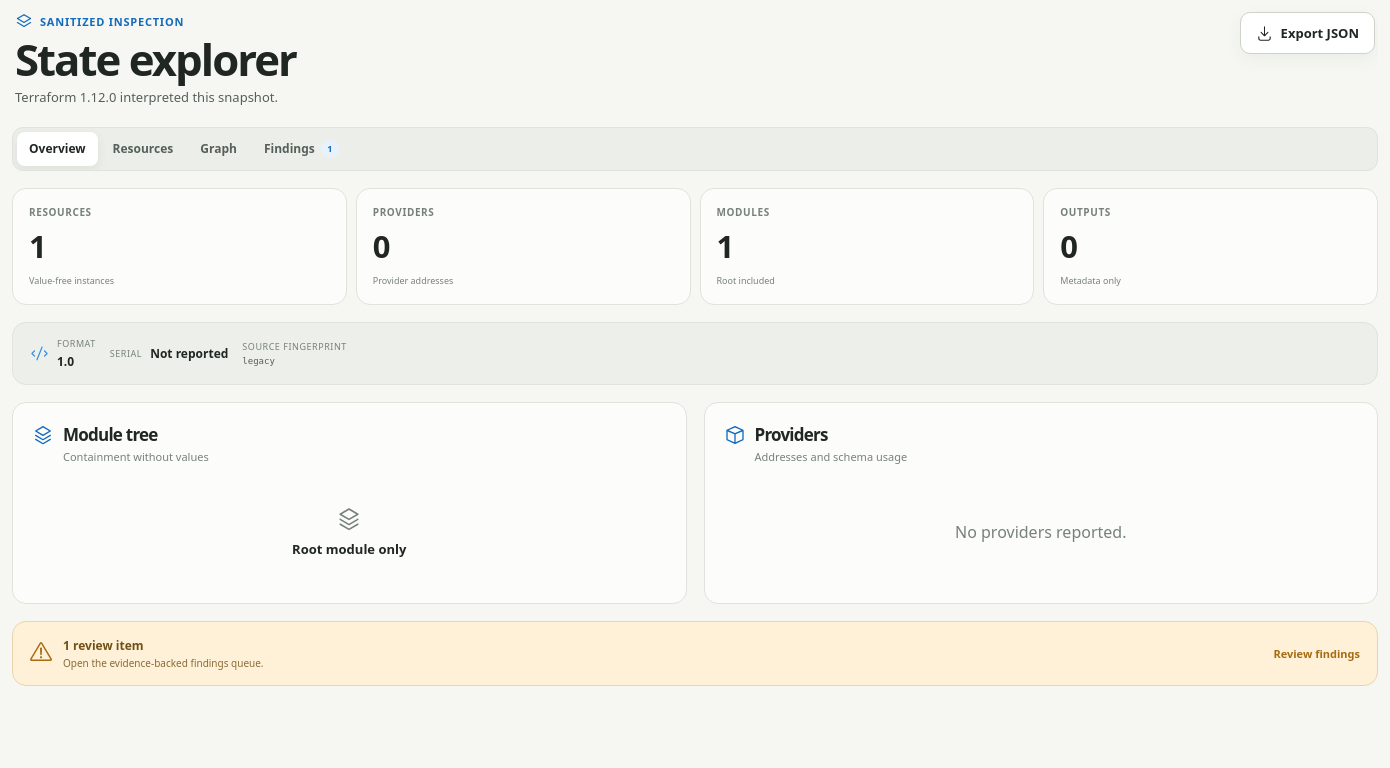
Test case: tolerates legacy null lists and renders hostile text without HTML execution
Click the tab "Resources".
click(143, 149)  # box [100,132,185,166]
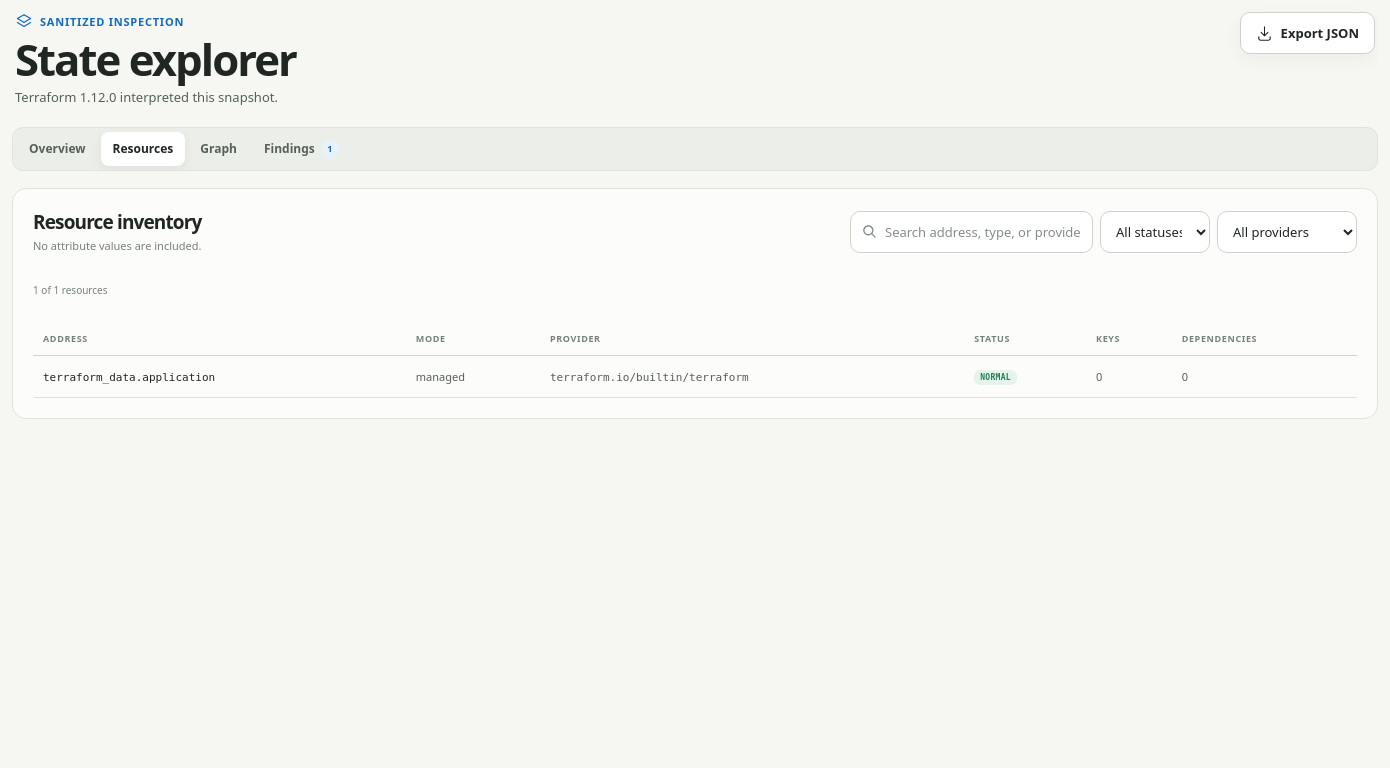
Result: the text "0" is shown 2 times at [1086,355,1172,397]; [1172,355,1357,397]
Click the tab "Findings 1".
click(301, 149)  # box [252,132,351,166]
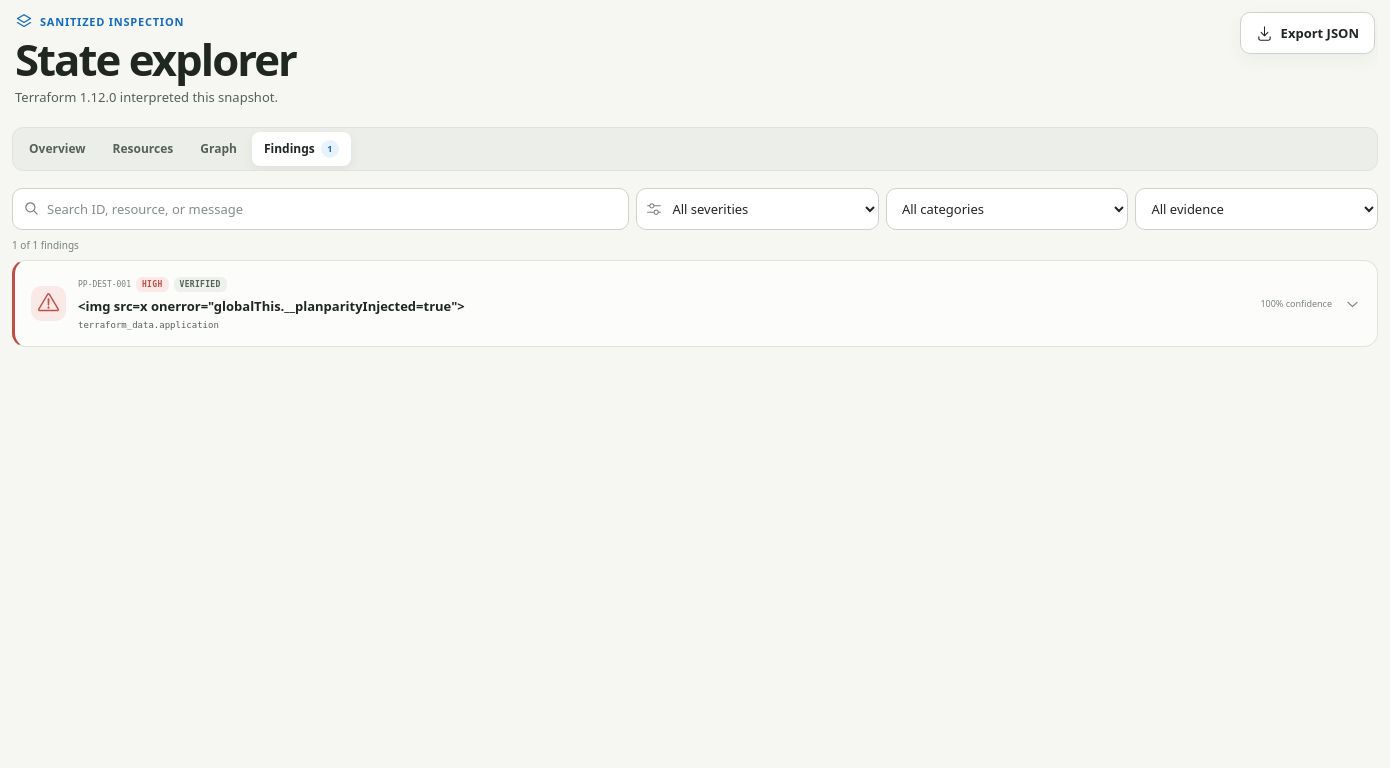
Result: the text "<img src=x onerror=\"globalThis.__planparityInjected=true\">" is shown 2 times
